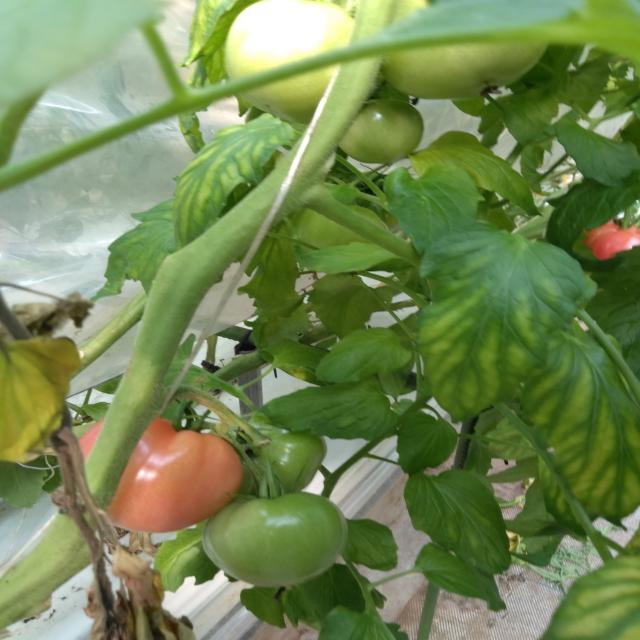n-half-riped: (66, 413, 242, 535)
n-unriped: (224, 0, 355, 124), (201, 492, 349, 588), (378, 40, 549, 100), (208, 414, 327, 500), (338, 98, 424, 164)
